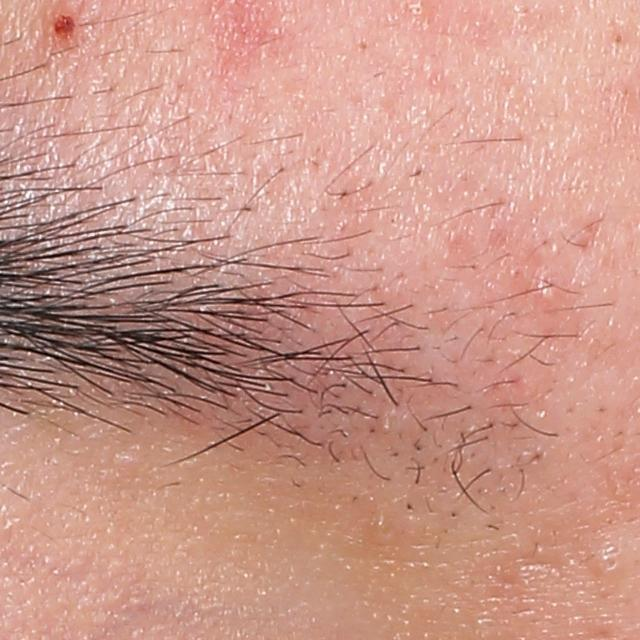comedo: (600, 547, 623, 576), (354, 38, 372, 54), (614, 32, 626, 46)
other: (46, 7, 85, 40)
